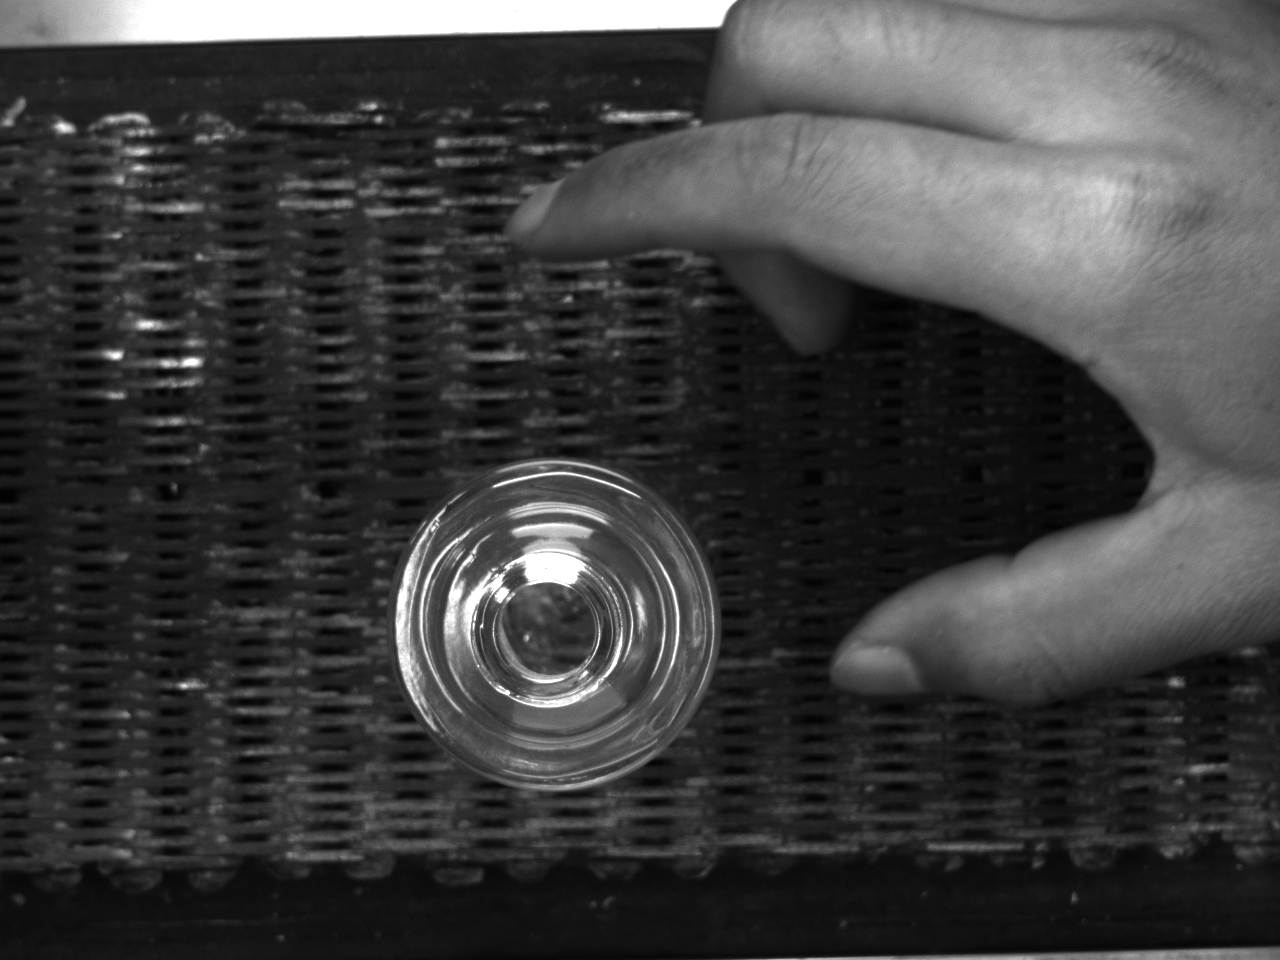bottleneck: (472, 551, 625, 708)
